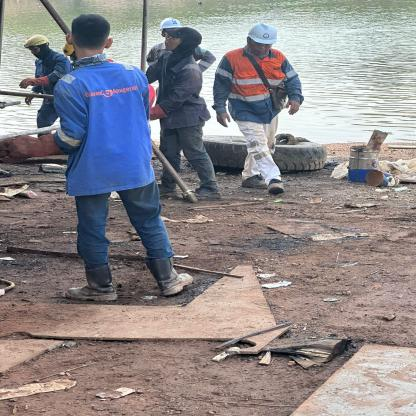bota: (62, 261, 120, 302), (141, 257, 194, 296), (186, 185, 228, 204), (154, 182, 181, 200), (238, 173, 268, 189), (270, 176, 284, 197)
